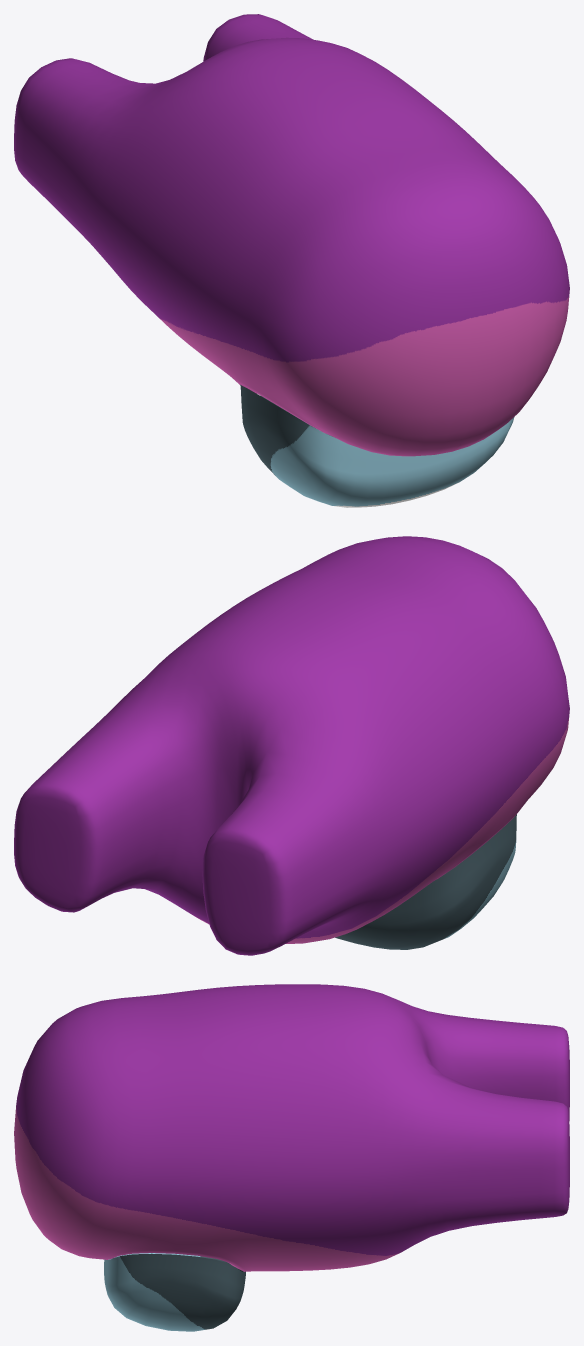
File: PinkAstronaut.obj
The picture shows the model from 3 angles, top to bottom: view 1: azimuth 30°, elevation 25°; view 2: azimuth 150°, elevation 25°; view 3: azimuth 270°, elevation 25°; orthographic projection. The views are drawn at different scales.
Visible parts, largest first — view 1: Cube.002; view 2: Cube.002; view 3: Cube.002.
Boxes of the visible parts, <box> form: Cube.002: <box>14,14,569,507</box>; Cube.002: <box>14,536,569,955</box>; Cube.002: <box>14,984,569,1331</box>.
Size of the model in its own units: 255 by 293 by 471.
1 material, 1 textured.
